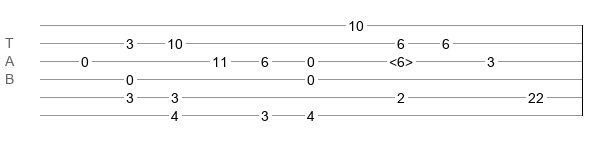0: (81, 54, 89, 64), (126, 72, 134, 82), (307, 54, 315, 64), (307, 72, 315, 82)
10: (167, 36, 183, 46), (348, 18, 364, 28)
11: (212, 54, 228, 64)
2: (397, 90, 405, 100)
22: (528, 90, 544, 100)
3: (126, 36, 134, 46), (126, 90, 134, 100), (171, 90, 179, 100), (261, 108, 269, 118), (487, 54, 495, 64)
4: (171, 108, 179, 118), (307, 108, 315, 118)
6: (261, 54, 269, 64), (397, 36, 405, 46), (442, 36, 450, 46)
harmonic: (389, 54, 413, 64)
